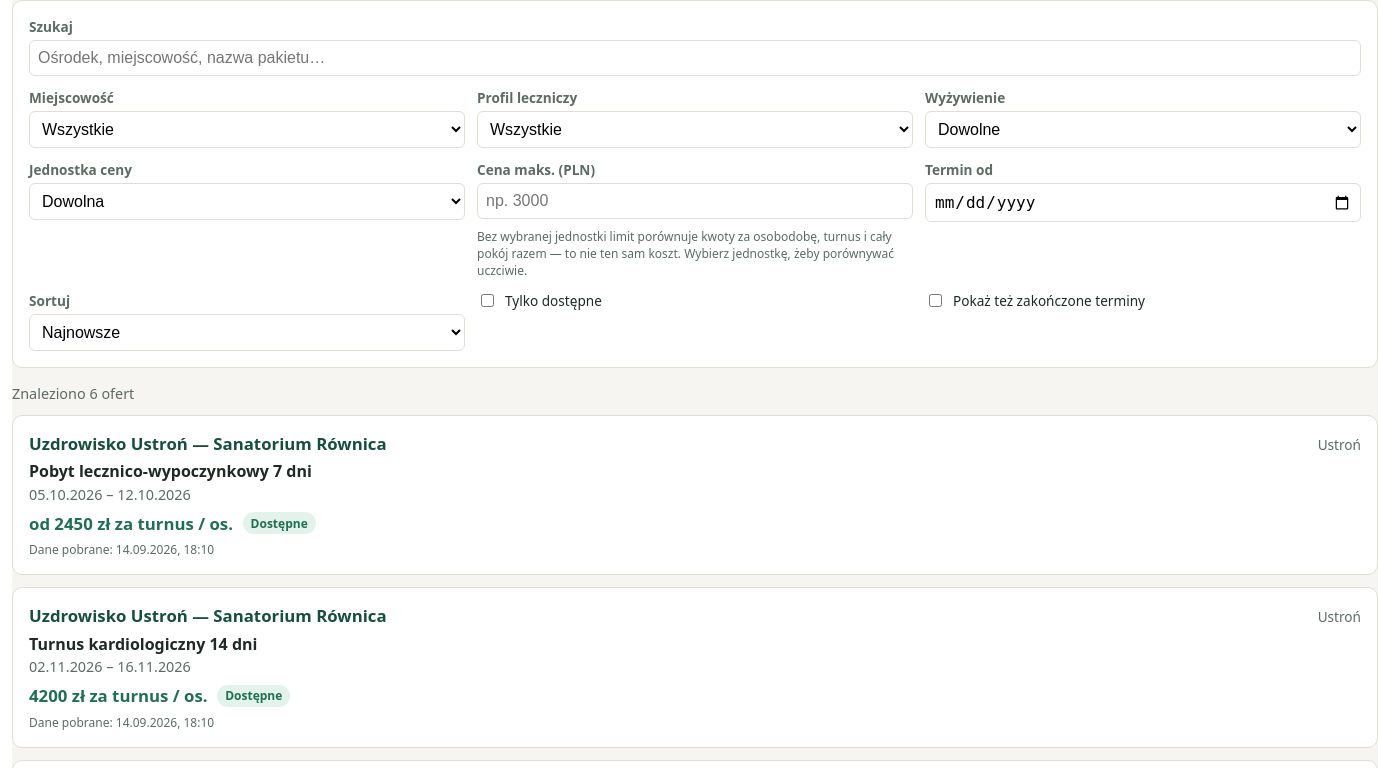
it: SearchPage › filtruje po jednostce ceny i chowa podpowiedź o porównywalności po wyborze
Expected: the text "Znaleziono 6 ofert" is shown, [12,384,134,403]
Expected: the text "limit porównuje kwoty za osobodobę, turnus i cały pokój razem" is shown, [477,228,894,279]
Select "za turnus / os." in the dropdown labelled "Jednostka ceny" at [247, 202], box [29,183,465,220]
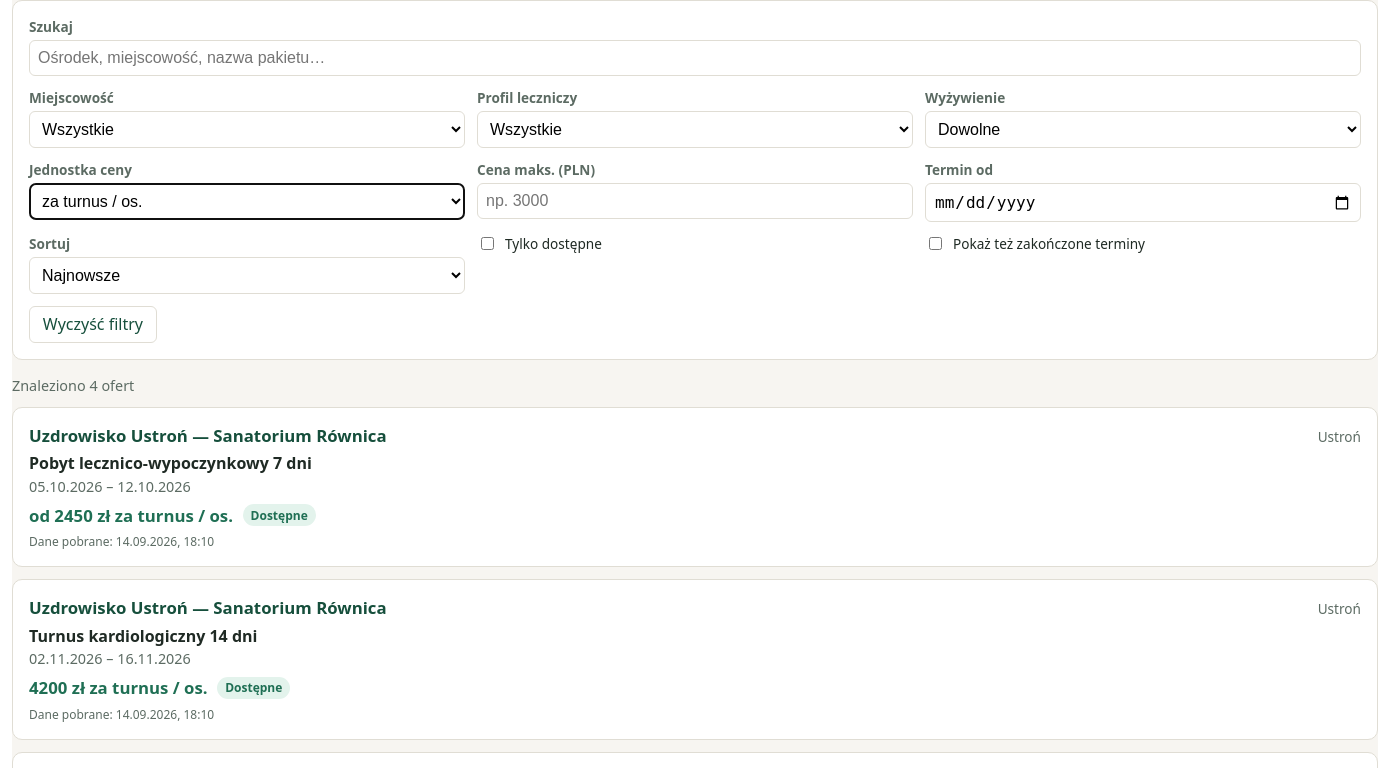
Result: the text "Znaleziono 4 ofert" is shown at [12,376,134,395]
Result: the text "limit porównuje kwoty za osobodobę, turnus i cały pokój razem" is gone
